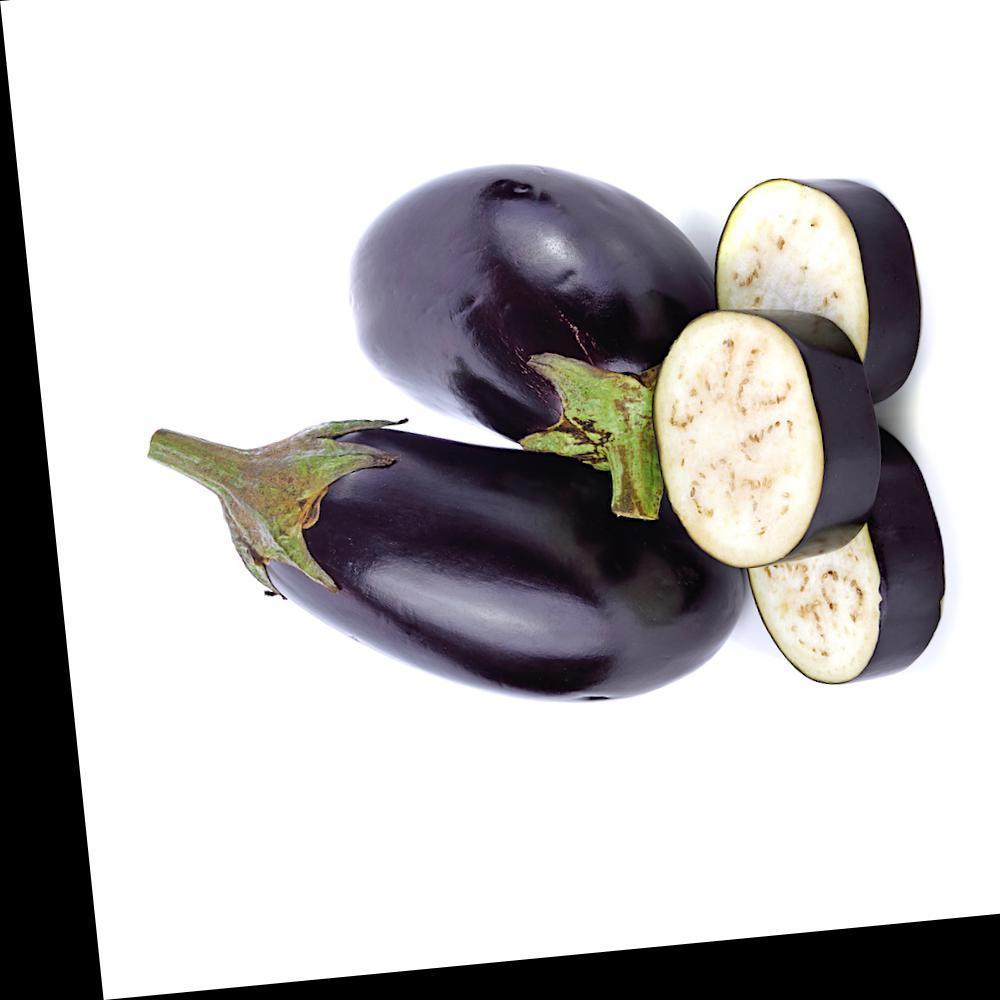eggplant: (98, 326, 922, 859), (294, 79, 919, 458)
